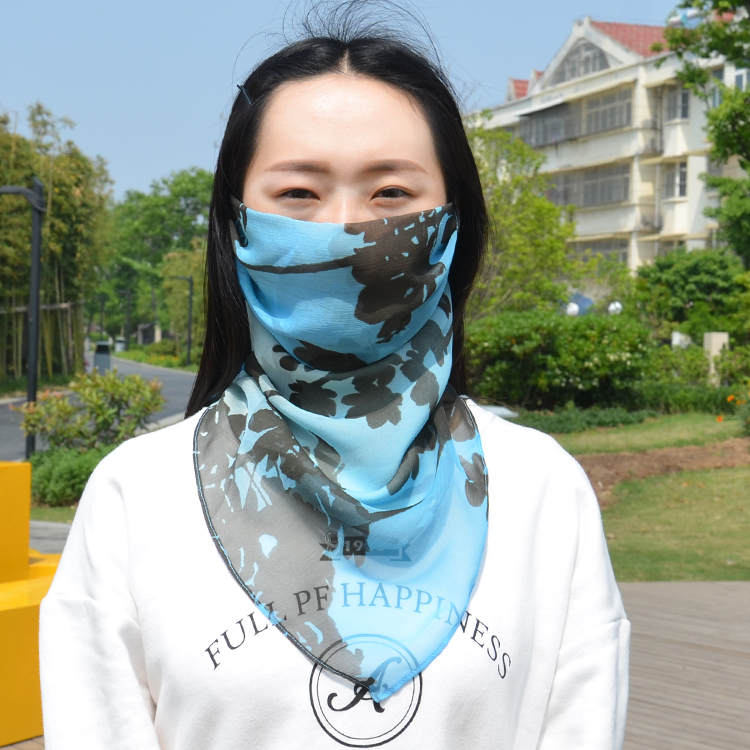face_mask: (237, 77, 447, 355)
